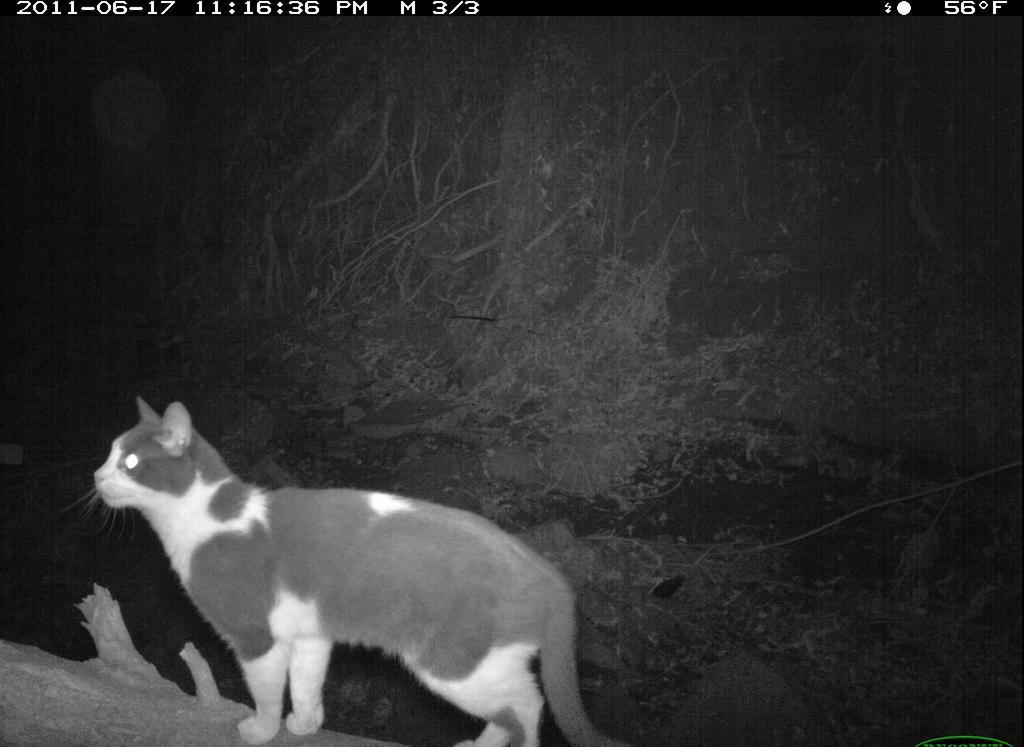cat: (73, 377, 656, 747)
